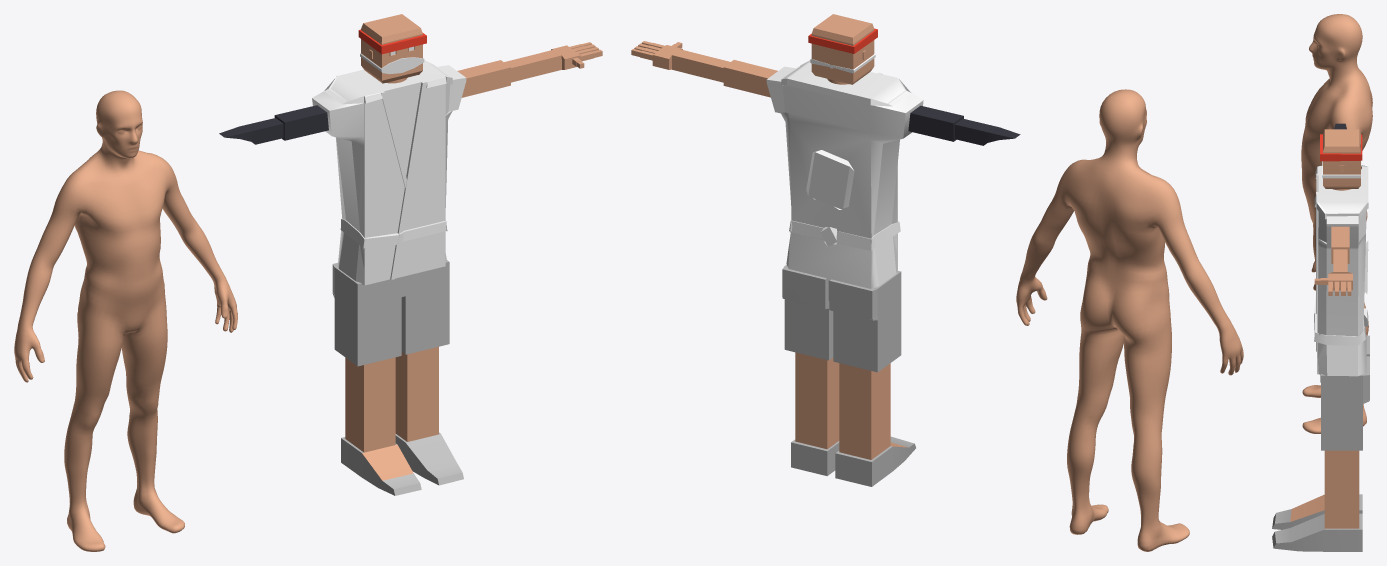
File: character.obj
3 renders of one model, left to right at view 1: azimuth 30°, elevation 25°; view 2: azimuth 150°, elevation 25°; view 3: azimuth 270°, elevation 25°, orthographic. The views are drawn at different scales.
Parts seen in each view (by area): view 1: HumanBody:humanBody, torso, right_leg, left_leg, head_section, left_arm, right_arm; view 2: HumanBody:humanBody, torso, right_leg, left_leg, head_section, left_arm, right_arm; view 3: torso, left_leg, HumanBody:humanBody, head_section, left_arm, right_leg.
Part boxes in pixels (x1,y1,x2,y2): HumanBody:humanBody: [14, 90, 237, 551]; torso: [312, 59, 466, 285]; right_leg: [332, 263, 421, 495]; left_leg: [395, 260, 463, 485]; head_section: [358, 14, 426, 83]; left_arm: [457, 42, 602, 97]; right_arm: [219, 105, 328, 144]; HumanBody:humanBody: [1016, 89, 1243, 551]; torso: [766, 60, 923, 288]; right_leg: [829, 270, 915, 486]; left_leg: [782, 264, 839, 476]; head_section: [808, 14, 877, 84]; left_arm: [631, 41, 777, 97]; right_arm: [908, 105, 1020, 145]; torso: [1314, 165, 1368, 376]; left_leg: [1272, 356, 1369, 551]; HumanBody:humanBody: [1301, 14, 1372, 433]; head_section: [1320, 129, 1362, 190]; left_arm: [1314, 226, 1352, 295]; right_leg: [1272, 335, 1369, 529].
Size of the model in its own units: 257 by 183 by 42.03.
